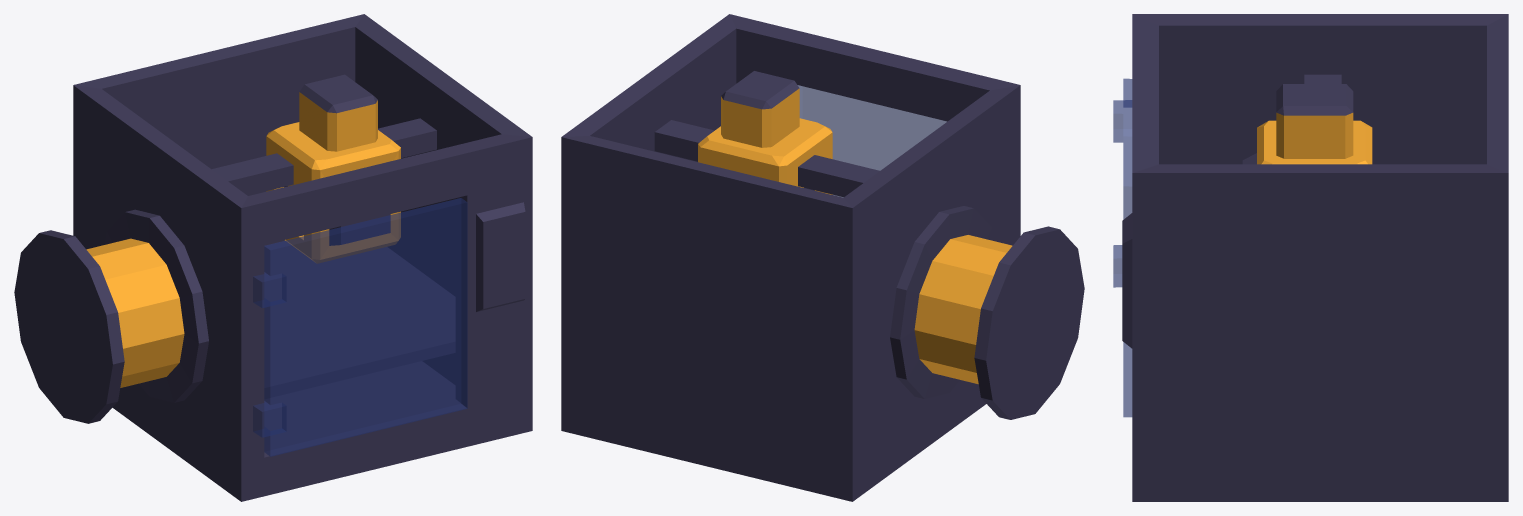
File: printer_02.fbx
3 views of the same model, side by side, from view 1: azimuth 30°, elevation 25°; view 2: azimuth 150°, elevation 25°; view 3: azimuth 270°, elevation 25° (orthographic). The views are drawn at different scales.
Visible parts, largest first — view 1: SM_Printer_box_01, SM_Printer_door_01, SM_Printer_coil_01, SM_Printer_floor_01, SM_Printer_miu_01; view 2: SM_Printer_box_01, SM_Printer_coil_01, SM_Printer_miu_01, SM_Printer_door_01; view 3: SM_Printer_box_01, SM_Printer_miu_01, SM_Printer_door_01.
Part boxes in pixels (left/top/right/bottom): SM_Printer_box_01: left=73, top=14, right=532, bottom=501; SM_Printer_door_01: left=253, top=198, right=467, bottom=456; SM_Printer_coil_01: left=14, top=209, right=208, bottom=423; SM_Printer_floor_01: left=264, top=241, right=455, bottom=398; SM_Printer_miu_01: left=266, top=74, right=400, bottom=263; SM_Printer_box_01: left=561, top=14, right=1020, bottom=501; SM_Printer_coil_01: left=890, top=206, right=1084, bottom=419; SM_Printer_miu_01: left=698, top=71, right=832, bottom=194; SM_Printer_door_01: left=798, top=85, right=946, bottom=197; SM_Printer_box_01: left=1122, top=14, right=1508, bottom=501; SM_Printer_miu_01: left=1242, top=84, right=1372, bottom=164; SM_Printer_door_01: left=1113, top=78, right=1132, bottom=417.
Size of the model in its own units: 77.37 by 58.92 by 61.11.
